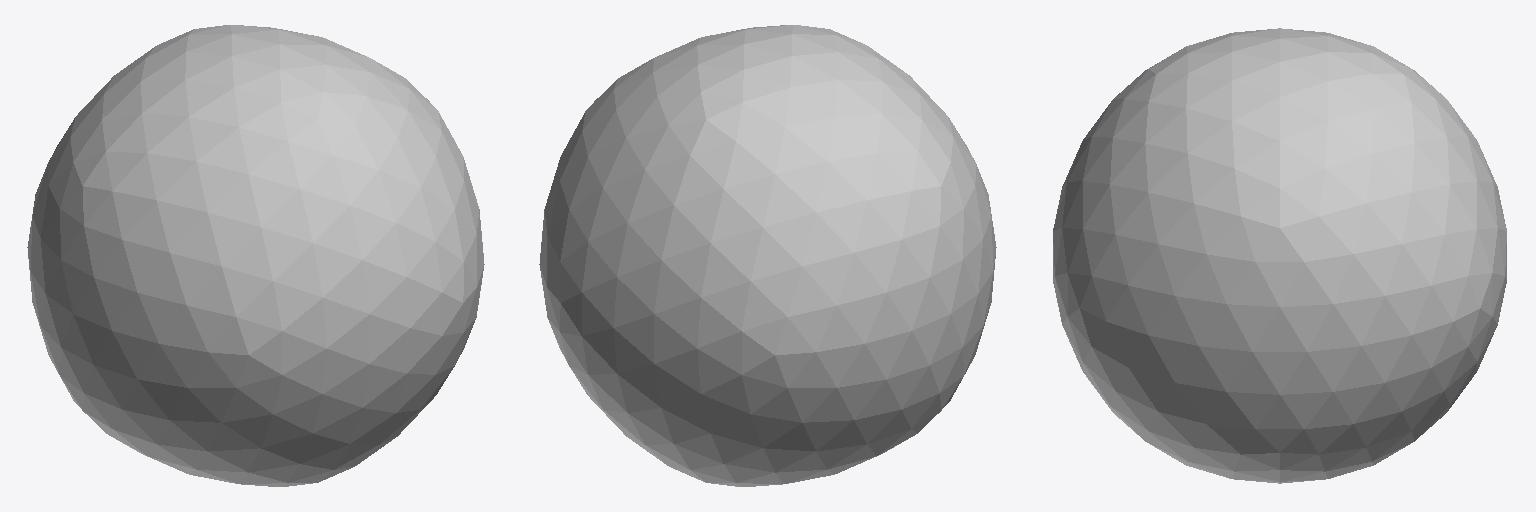
Rendered from sphere_smoothed_20_smoothed_80.obj.
3 views of the same model, side by side, from view 1: azimuth 30°, elevation 25°; view 2: azimuth 150°, elevation 25°; view 3: azimuth 270°, elevation 25° (orthographic).
Bounding box in the file's own units: 1.01 × 1.01 × 1.01.